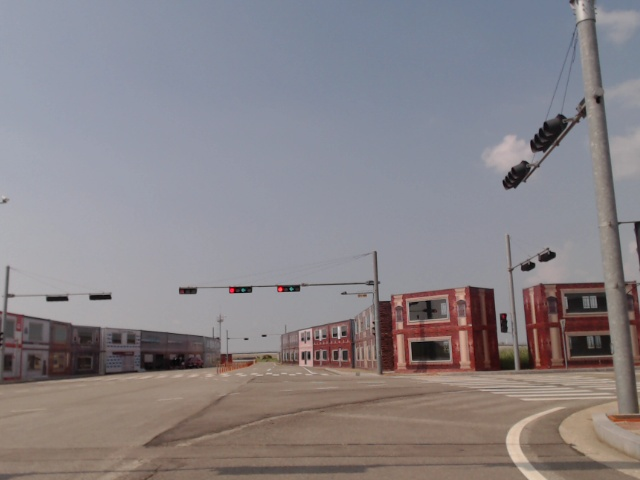left_green_4: (278, 286, 300, 292), (229, 288, 252, 293)
